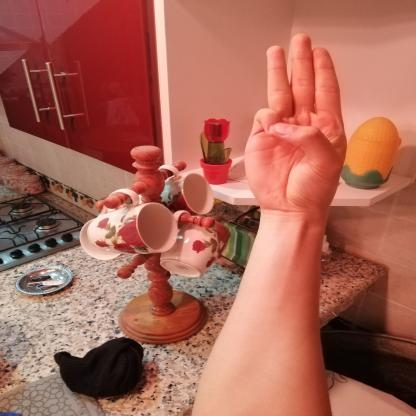THA: (228, 24, 361, 224)
